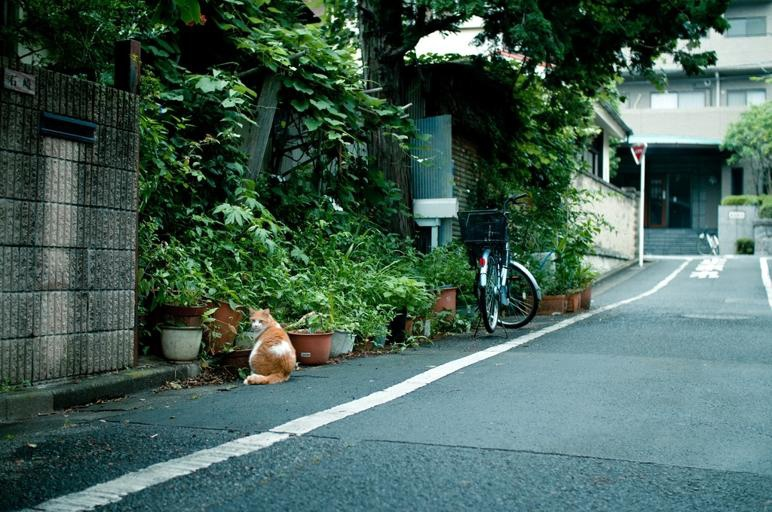non-vehicle: (454, 193, 542, 339), (694, 226, 721, 257)
